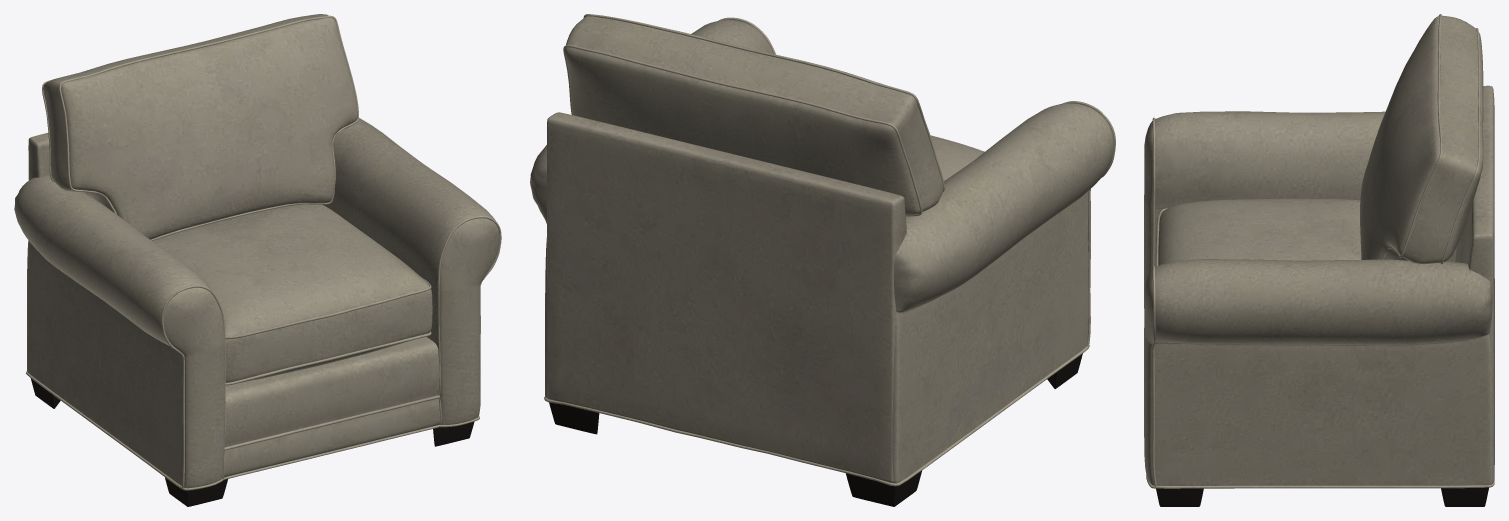
The model's file is abo-B071J7Q32K.glb.
3 renders of one model, left to right at view 1: azimuth 30°, elevation 25°; view 2: azimuth 150°, elevation 25°; view 3: azimuth 270°, elevation 25°, orthographic. The views are drawn at different scales.
Size of the model in its own units: 1.15 by 1.04 by 0.939.
1 material, 1 textured.
